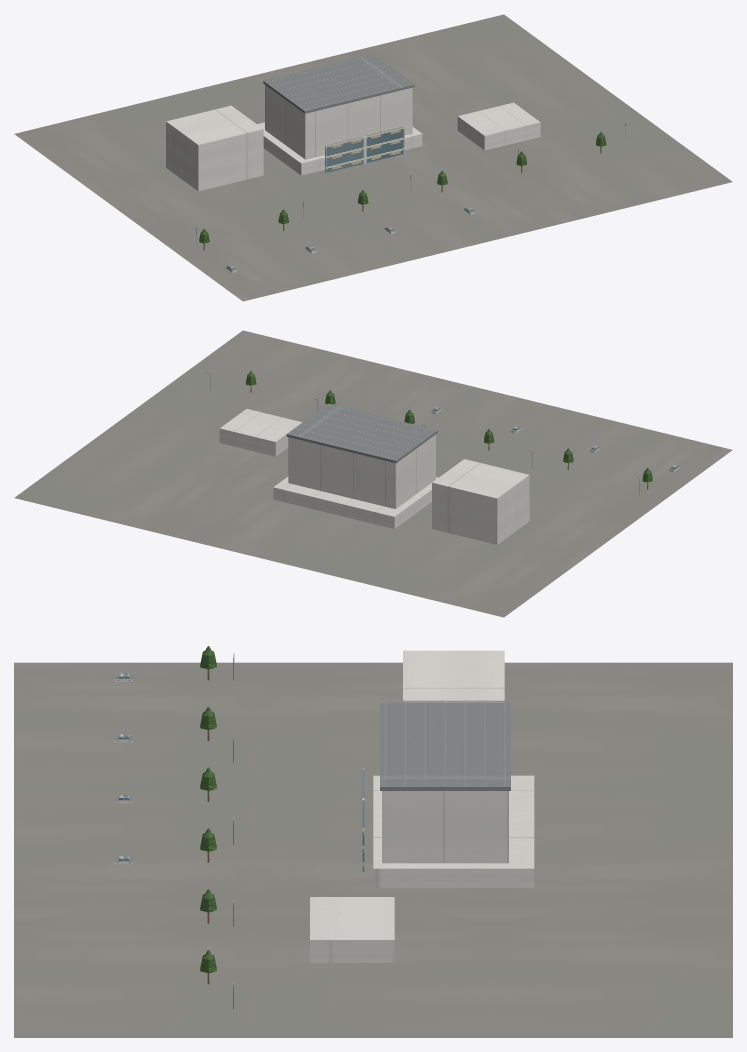
3 views of the same model, one above another, from view 1: azimuth 30°, elevation 25°; view 2: azimuth 150°, elevation 25°; view 3: azimuth 270°, elevation 25° (orthographic). The views are drawn at different scales.
Visible parts, largest first — view 1: 11440_50_03937_050_01a_ground, 11440_50_03937_050_03a_wall, 11440_50_03937_050_02a_wall, 11440_50_03937_050_02b_trim, 11440_50_03937_050_04a_wall, 11440_50_03937_050_02c_glass, 11440_50_03937_050_02d_wall, 11440_50_03937_050_06b_misc; view 2: 11440_50_03937_050_01a_ground, 11440_50_03937_050_02a_wall, 11440_50_03937_050_03a_wall, 11440_50_03937_050_02b_trim, 11440_50_03937_050_02d_wall, 11440_50_03937_050_04a_wall, 11440_50_03937_050_06b_misc; view 3: 11440_50_03937_050_01a_ground, 11440_50_03937_050_02b_trim, 11440_50_03937_050_02a_wall, 11440_50_03937_050_02d_wall, 11440_50_03937_050_04a_wall, 11440_50_03937_050_03a_wall, 11440_50_03937_050_06b_misc.
Part boxes in pixels (left/top/right/bottom): 11440_50_03937_050_01a_ground: left=14, top=14, right=732, bottom=301; 11440_50_03937_050_03a_wall: left=166, top=105, right=263, bottom=191; 11440_50_03937_050_02a_wall: left=265, top=85, right=412, bottom=159; 11440_50_03937_050_02b_trim: left=263, top=54, right=414, bottom=113; 11440_50_03937_050_04a_wall: left=457, top=102, right=540, bottom=150; 11440_50_03937_050_02c_glass: left=325, top=126, right=404, bottom=172; 11440_50_03937_050_02d_wall: left=257, top=122, right=422, bottom=175; 11440_50_03937_050_06b_misc: left=199, top=132, right=606, bottom=243; 11440_50_03937_050_01a_ground: left=14, top=330, right=732, bottom=617; 11440_50_03937_050_02a_wall: left=288, top=434, right=435, bottom=509; 11440_50_03937_050_03a_wall: left=432, top=459, right=529, bottom=544; 11440_50_03937_050_02b_trim: left=286, top=403, right=437, bottom=463; 11440_50_03937_050_02d_wall: left=273, top=476, right=438, bottom=528; 11440_50_03937_050_04a_wall: left=219, top=409, right=302, bottom=456; 11440_50_03937_050_06b_misc: left=246, top=371, right=652, bottom=482; 11440_50_03937_050_01a_ground: left=14, top=662, right=732, bottom=1037; 11440_50_03937_050_02b_trim: left=380, top=703, right=510, bottom=790; 11440_50_03937_050_02a_wall: left=382, top=791, right=508, bottom=863; 11440_50_03937_050_02d_wall: left=373, top=775, right=534, bottom=887; 11440_50_03937_050_04a_wall: left=310, top=897, right=394, bottom=962; 11440_50_03937_050_03a_wall: left=403, top=650, right=504, bottom=702; 11440_50_03937_050_06b_misc: left=200, top=646, right=216, bottom=973.
Bounding box in the file's own units: 210 × 25.1 × 170.
7 materials, 7 textured.
